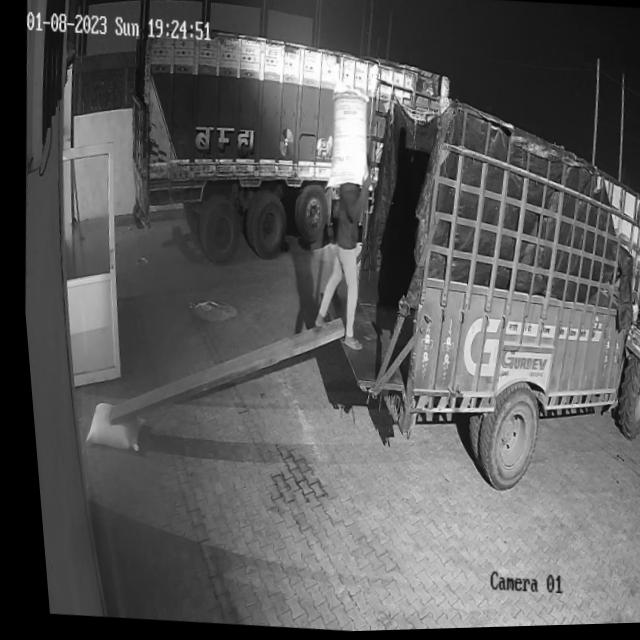sack: (315, 84, 373, 193), (76, 398, 139, 452)
